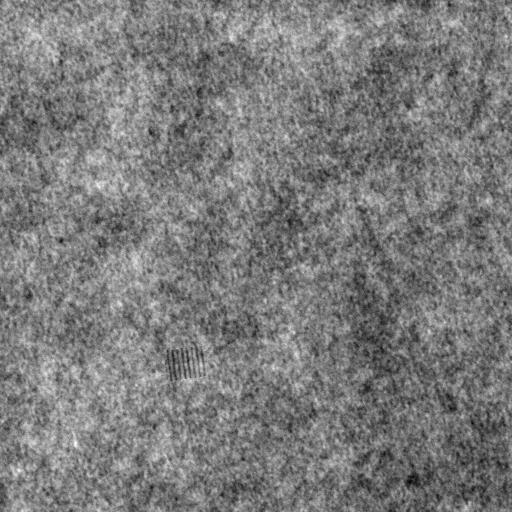DefectTypeB: (168, 346, 209, 378)
